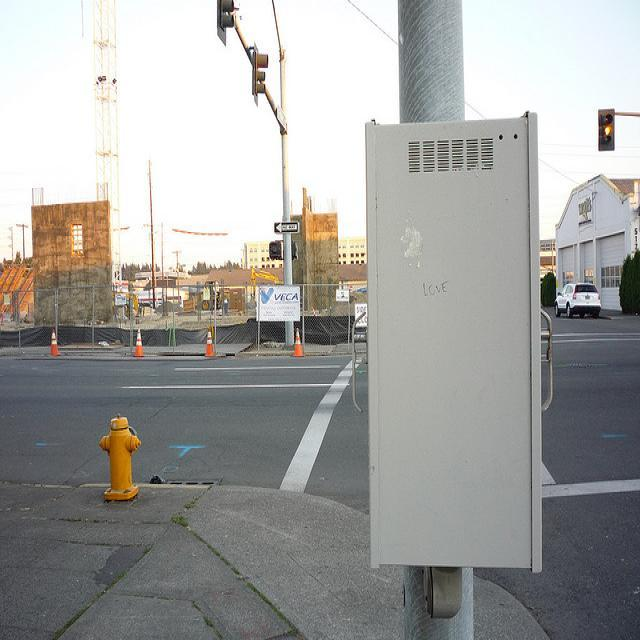fire_hydrant: (98, 413, 140, 500)
